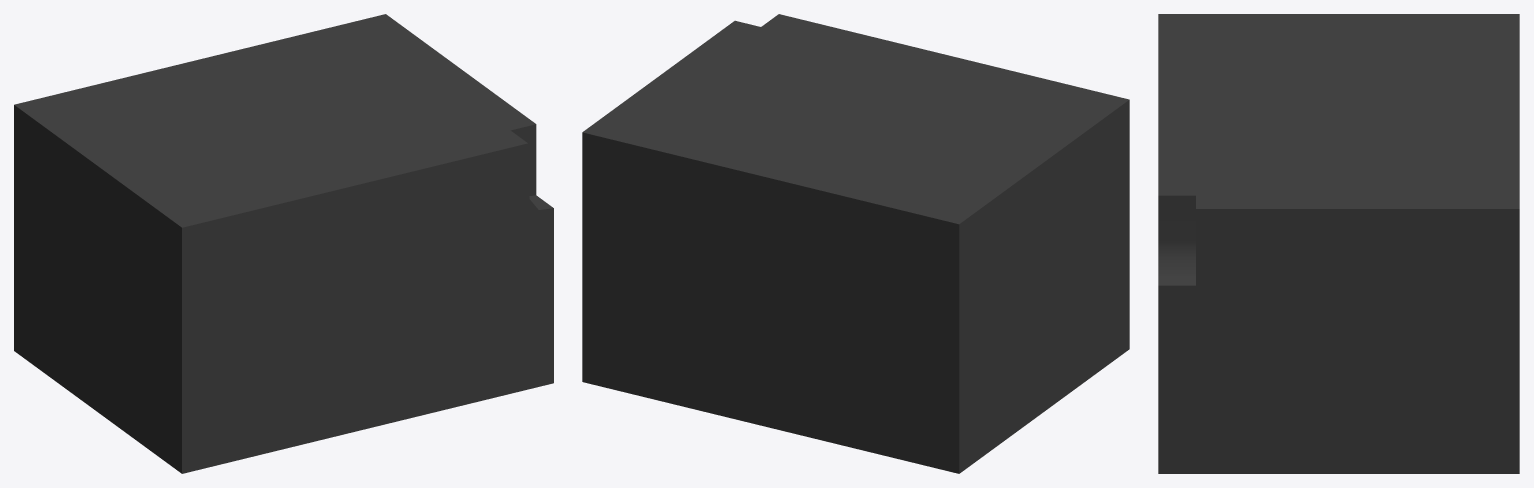
Rendered from fbx_drawer_3.fbx.
3 renders of one model, left to right at view 1: azimuth 30°, elevation 25°; view 2: azimuth 150°, elevation 25°; view 3: azimuth 270°, elevation 25°, orthographic. The views are drawn at different scales.
Visible parts, largest first — view 1: fbx_drawer_3; view 2: fbx_drawer_3; view 3: fbx_drawer_3.
Boxes of the visible parts, x1,y1,x2,y2 form: fbx_drawer_3: (14, 14, 553, 473); fbx_drawer_3: (582, 14, 1129, 473); fbx_drawer_3: (1158, 14, 1519, 473).
Bounding box in the file's own units: 1.12 × 0.708 × 0.8762.
1 material, 1 textured.
